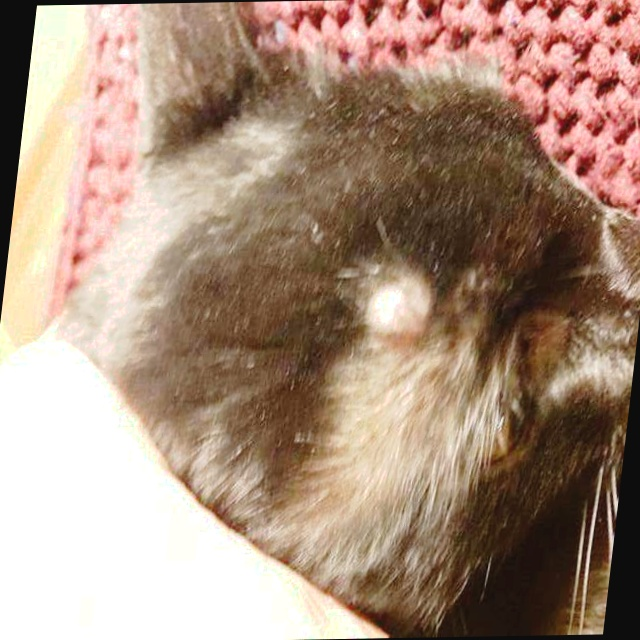lump_and_bump: (351, 273, 440, 337)
